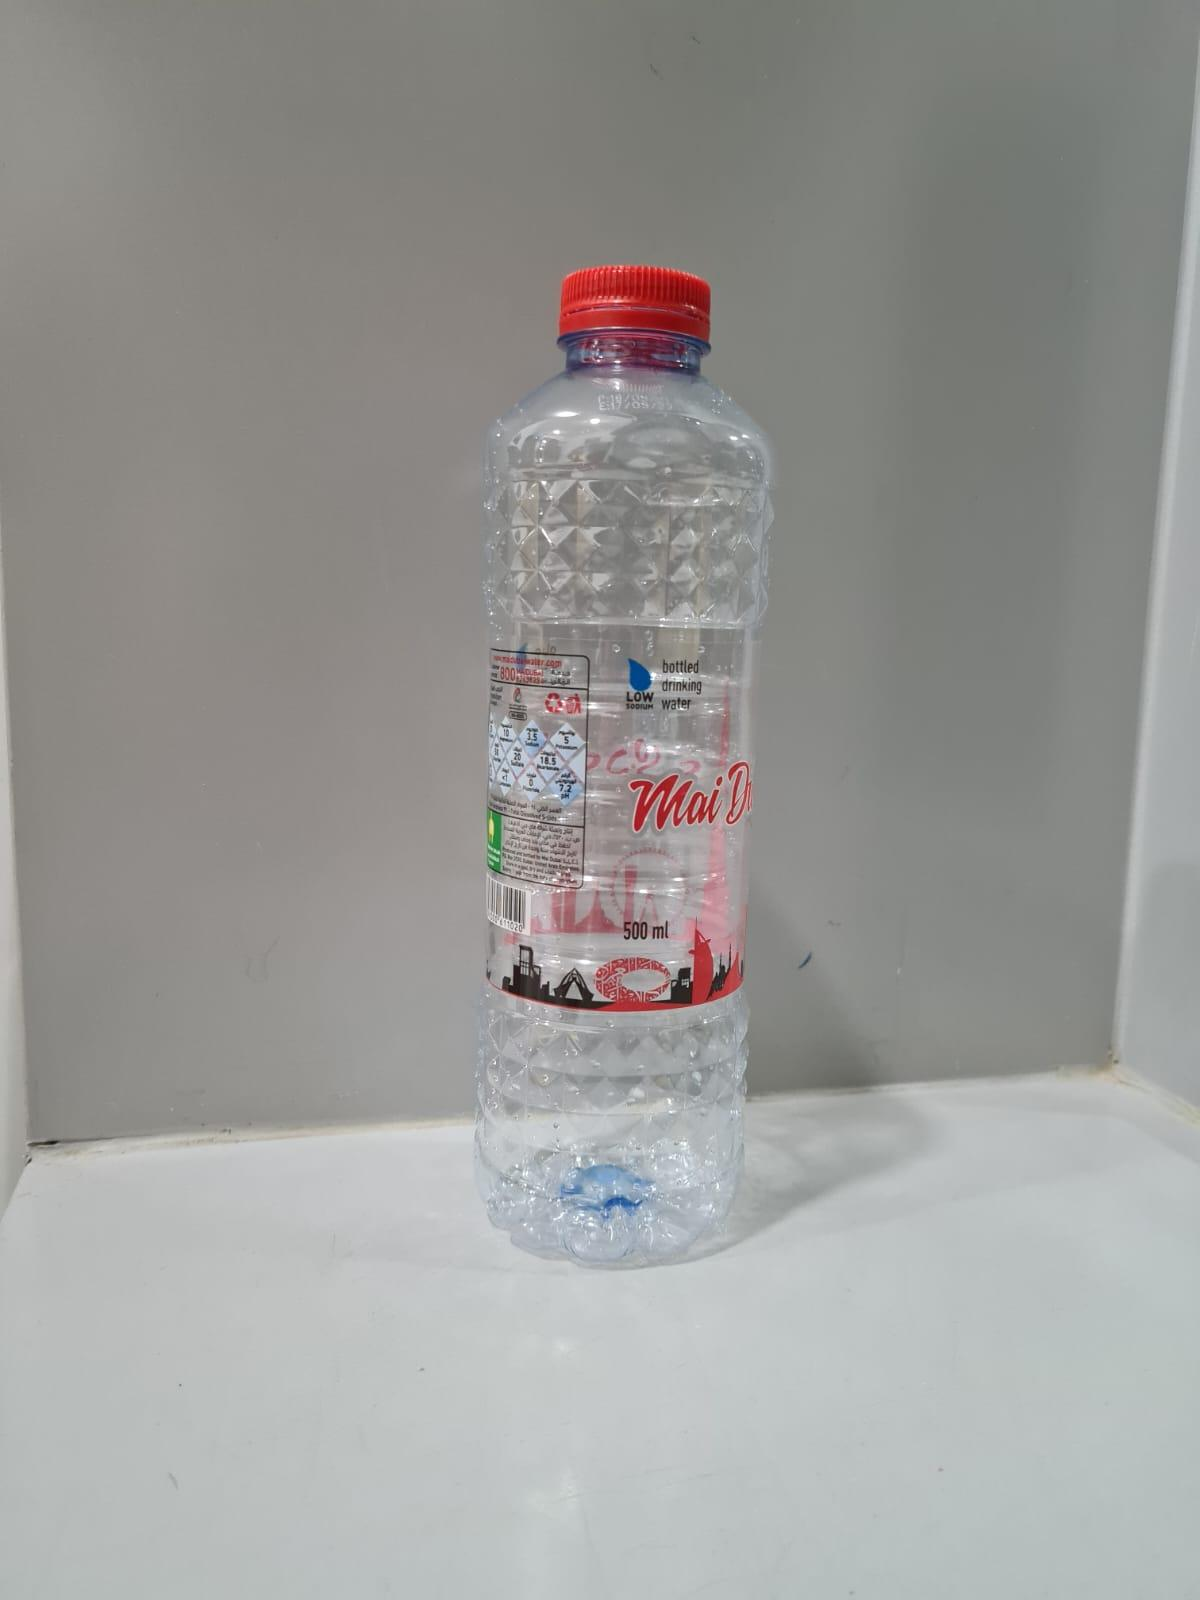bottle: (460, 265, 771, 1251)
